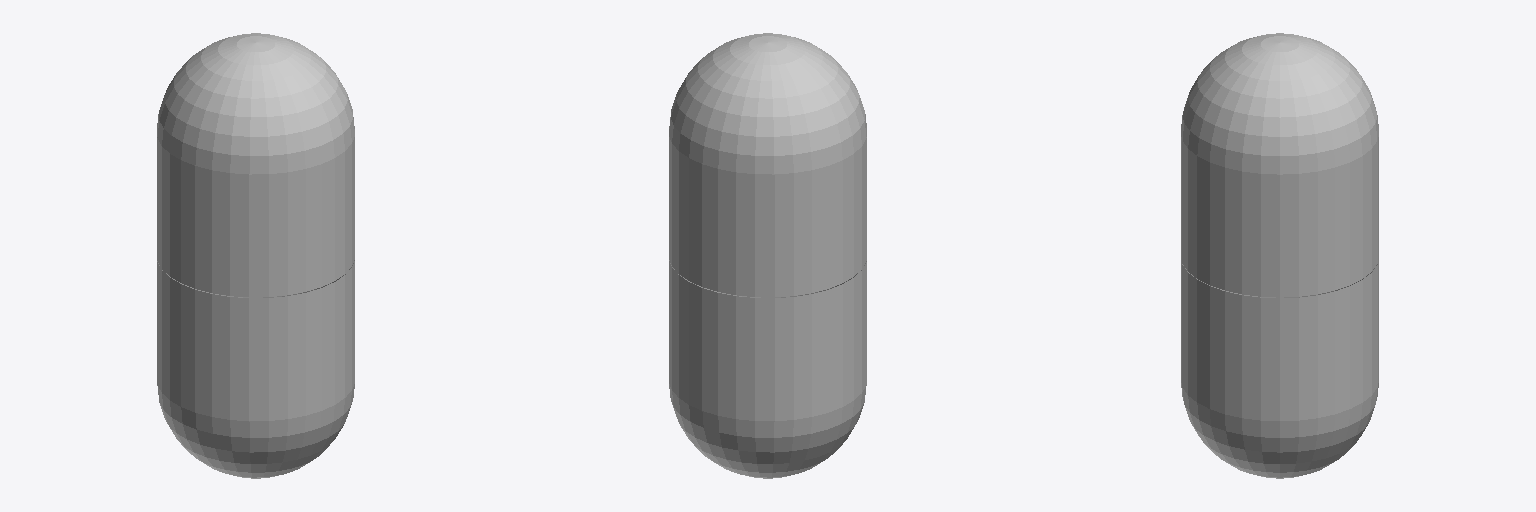
The model's file is pill.obj.
3 views of the same model, side by side, from view 1: azimuth 30°, elevation 25°; view 2: azimuth 150°, elevation 25°; view 3: azimuth 270°, elevation 25° (orthographic).
Visible parts, largest first — view 1: Cylinder; view 2: Cylinder; view 3: Cylinder.
Boxes of the visible parts, box(x1,y1,x2,y2) form: Cylinder: box(157, 33, 354, 478); Cylinder: box(669, 33, 866, 478); Cylinder: box(1181, 33, 1378, 478).
Size of the model in its own units: 2 by 4.74 by 2.